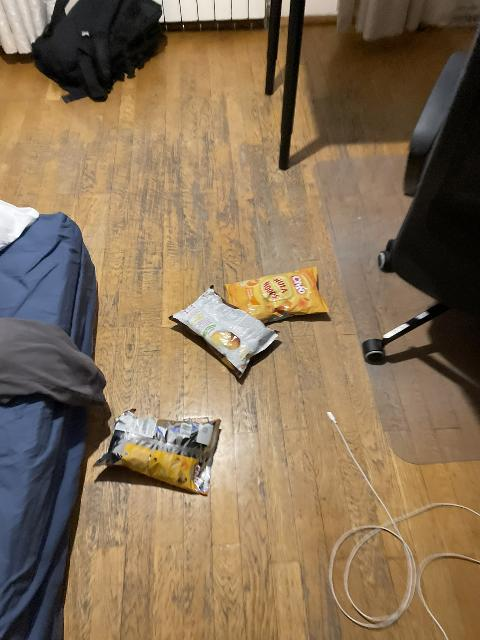Chio Cascaval 125g: (96, 408, 225, 494)
Chio Hula Hoops Cheese 70g: (226, 267, 330, 323)
Lays Beef Grilled Ribs 125g: (167, 285, 279, 377)
